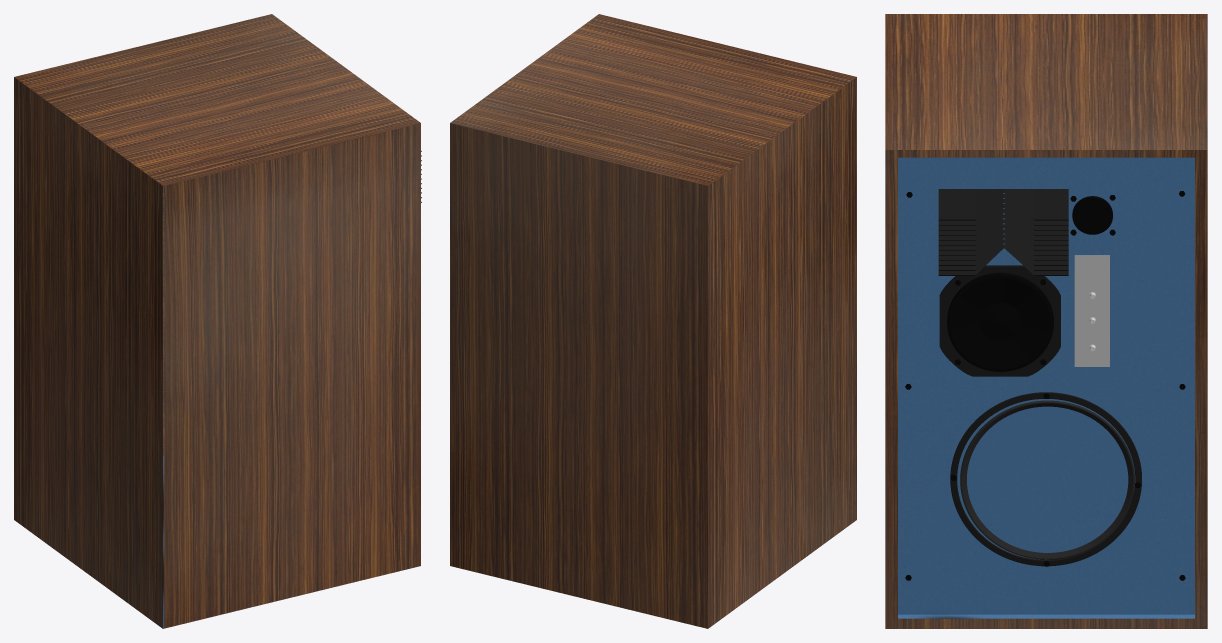
The model's file is 4344_mock.fbx.
3 views of the same model, side by side, from view 1: azimuth 30°, elevation 25°; view 2: azimuth 150°, elevation 25°; view 3: azimuth 270°, elevation 25° (orthographic). The views are drawn at different scales.
Visible parts, largest first — view 1: 立方体; view 2: 立方体; view 3: 立方体, 平面.003, 平面.002, 平面, 円.002, 円.001, 平面.001, 円.
Boxes of the visible parts, x1,y1,x2,y2 form: 立方体: (14, 14, 420, 628); 立方体: (450, 14, 856, 628); 立方体: (885, 14, 1207, 628); 平面.003: (938, 189, 1068, 275); 平面.002: (947, 272, 1053, 371); 平面: (1074, 255, 1109, 366); 円.002: (950, 392, 1141, 566); 円.001: (960, 400, 1134, 559); 平面.001: (939, 265, 1060, 376); 円: (1072, 196, 1112, 234).
Bounding box in the file's own units: 329 × 491 × 299.
